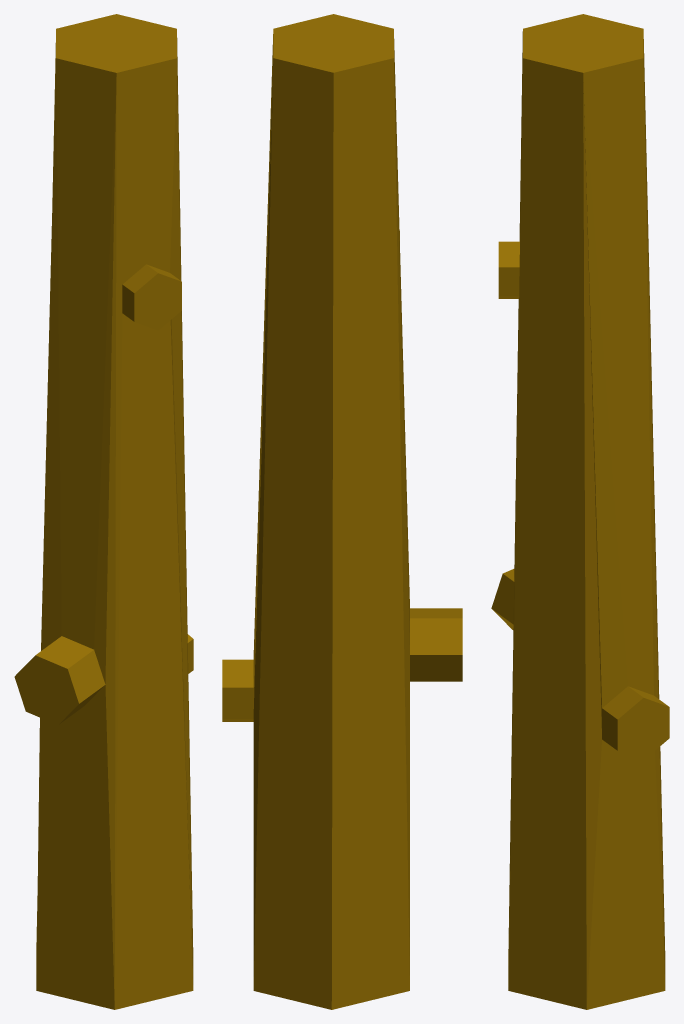
The model's file is Vegetation_Modular_Tree_Trunk_Alpine_05.fbx.
3 renders of one model, left to right at view 1: azimuth 30°, elevation 25°; view 2: azimuth 150°, elevation 25°; view 3: azimuth 270°, elevation 25°, orthographic.
Parts seen in each view (by area): view 1: Vegetation_Modular_Tree_Trunk_Alpine_05; view 2: Vegetation_Modular_Tree_Trunk_Alpine_05; view 3: Vegetation_Modular_Tree_Trunk_Alpine_05.
Boxes of the visible parts, x1=… form: Vegetation_Modular_Tree_Trunk_Alpine_05: x1=14, y1=14, x2=193, y2=1009; Vegetation_Modular_Tree_Trunk_Alpine_05: x1=222, y1=14, x2=462, y2=1009; Vegetation_Modular_Tree_Trunk_Alpine_05: x1=491, y1=14, x2=669, y2=1009.
Size of the model in its own units: 396 by 1673 by 291.
